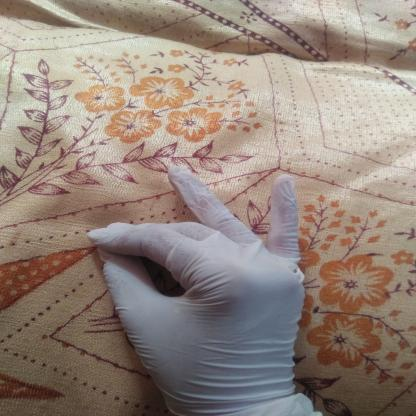gloved_hand: (80, 161, 310, 412)
